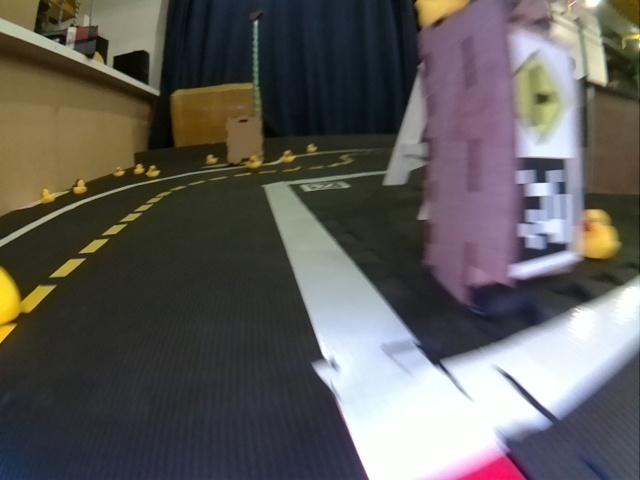Duckie: (582, 210, 619, 259), (0, 266, 21, 322), (73, 180, 87, 194), (146, 165, 161, 177), (246, 156, 260, 168), (43, 189, 53, 204), (281, 153, 291, 163), (134, 164, 144, 174), (114, 167, 125, 176), (307, 144, 317, 152), (207, 156, 215, 164)
Intersection sign: (511, 37, 578, 152)
QR code: (515, 159, 581, 264), (301, 180, 349, 192)
